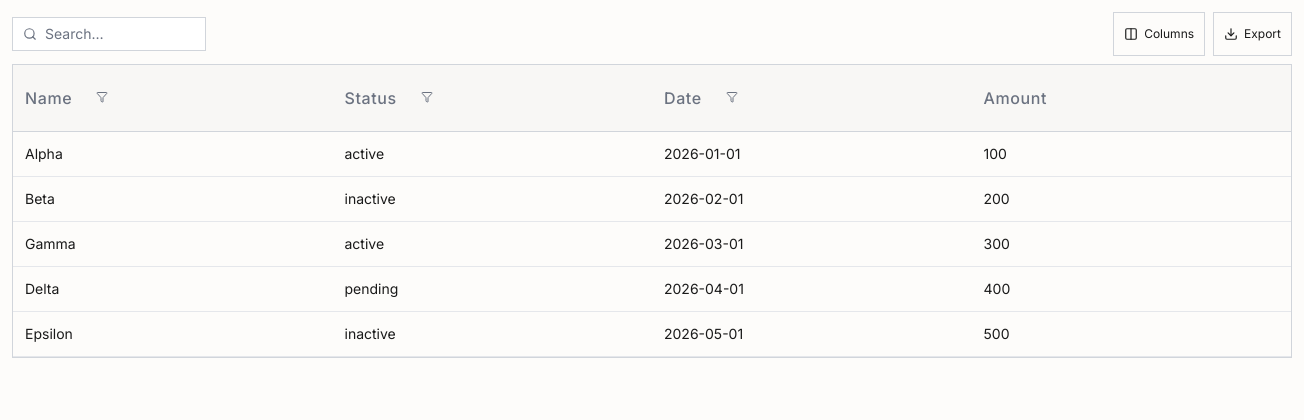
DataTable — expanded row renderer › clicking a row expands the detail panel
Step 1. Click the text "Alpha active 2026-01-01 100" → [652, 154], box [13,132,1291,176]
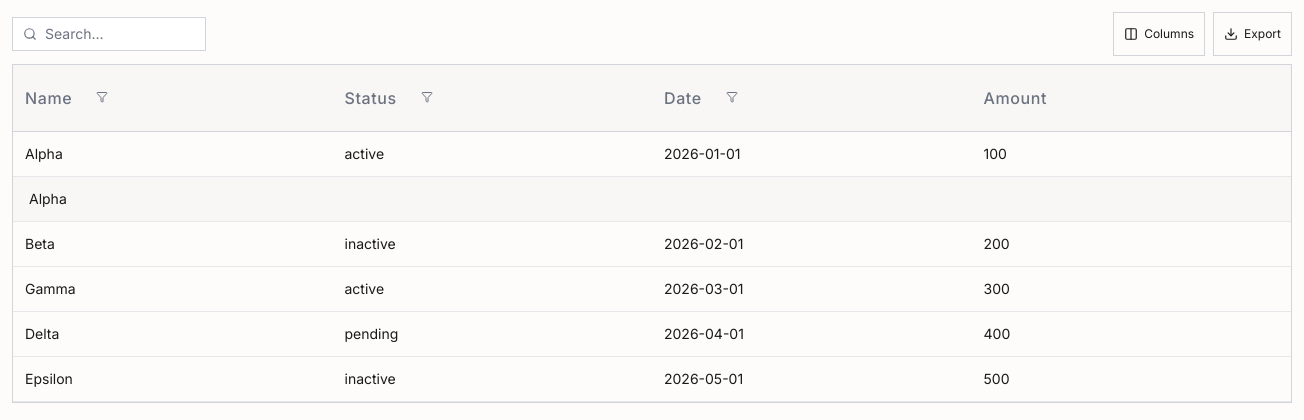
Check: the text "Alpha" is shown, box [29,190,67,207]
